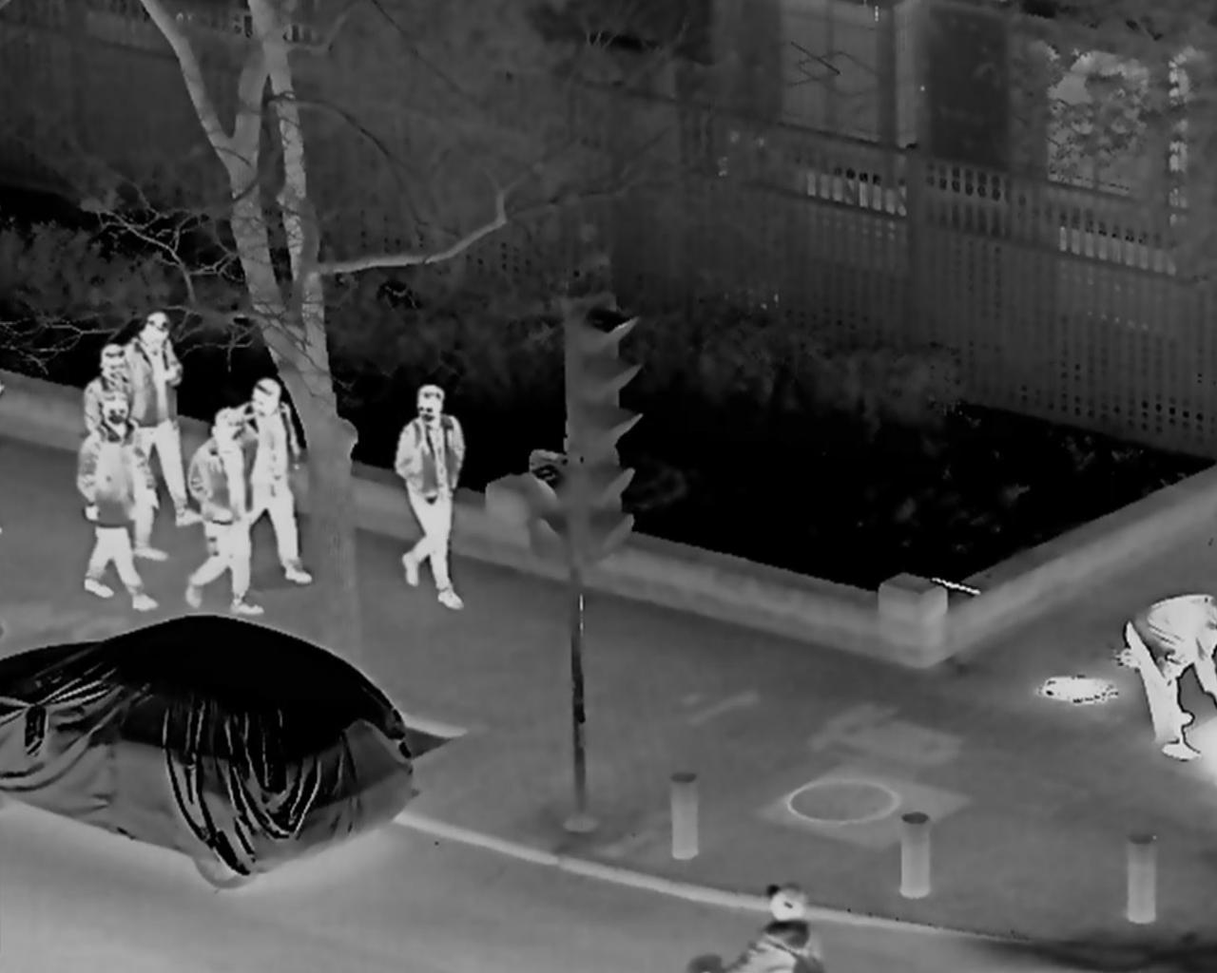person: (388, 379, 468, 609), (217, 384, 309, 581), (80, 351, 161, 560), (76, 396, 154, 611), (116, 314, 193, 528), (185, 408, 262, 616), (1126, 594, 1217, 754), (695, 889, 832, 973)
